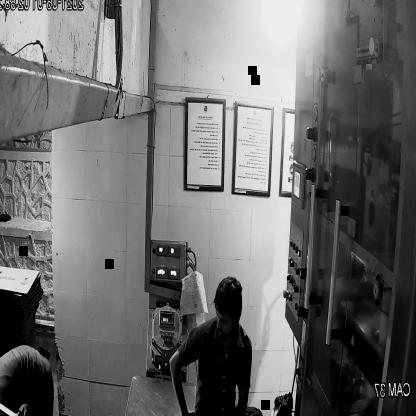no_goggles: (212, 307, 247, 331)
